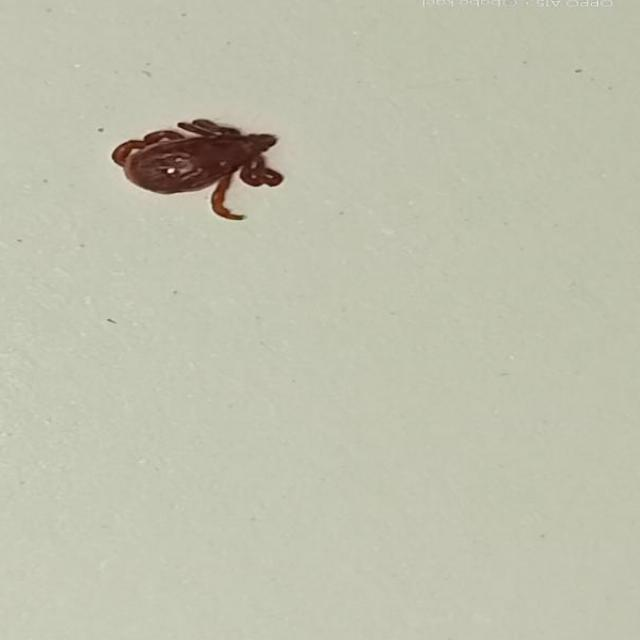Rhipicephalus Sanguineus-M: (110, 117, 285, 220)
